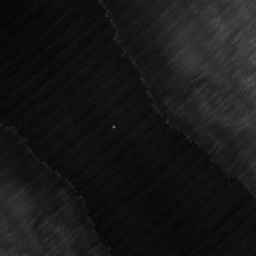Target: (110, 122, 117, 129)
